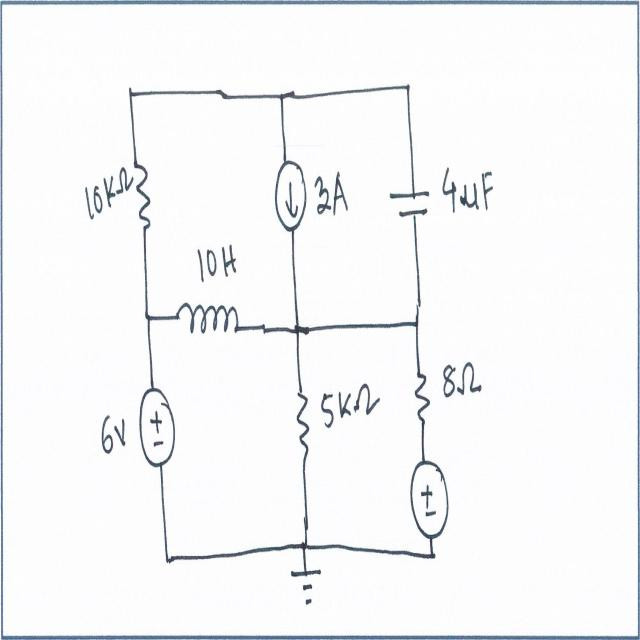capacitor: (387, 182, 429, 226)
current_source: (272, 155, 308, 243)
ground: (290, 566, 326, 619)
inductor: (173, 286, 243, 349)
resistor: (132, 151, 156, 240), (294, 374, 316, 466), (414, 360, 433, 428)
voltage_source: (407, 452, 451, 546), (136, 379, 179, 472)
